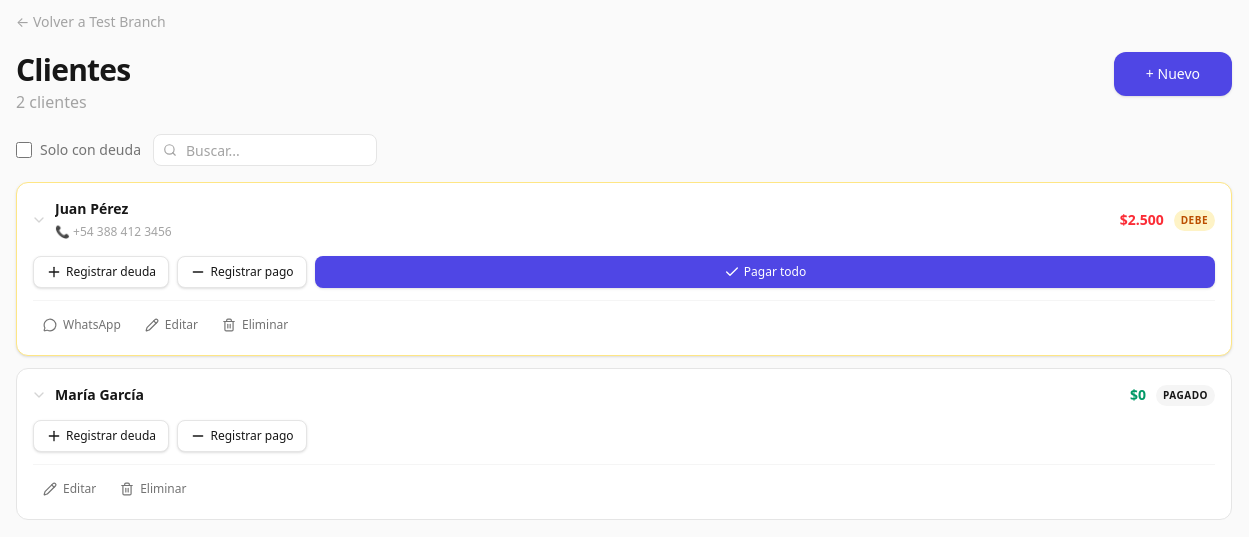
ClientList › should show no results message when search has no matches
Expected: the text "Juan Pérez" is shown, x1=55 y1=199 x2=128 y2=218
Type "NonExistent" into the field with placeholder "Buscar..." at (265, 150), box x1=153 y1=134 x2=377 y2=166
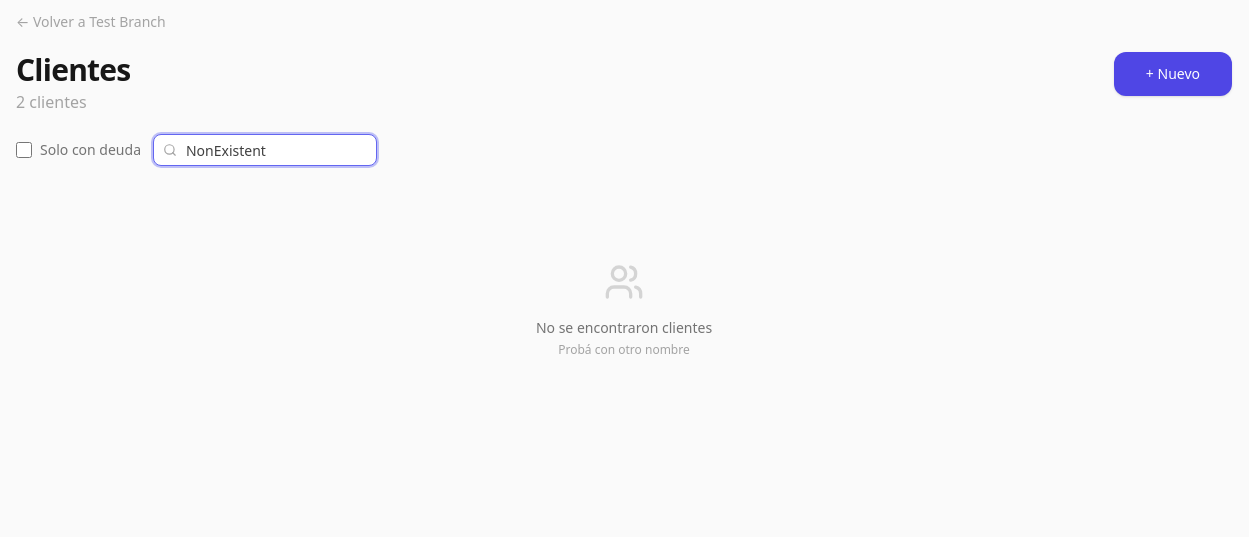
Now the text "No se encontraron clientes" is shown, box x1=536 y1=318 x2=712 y2=338
Now the text "Probá con otro nombre" is shown, box x1=558 y1=342 x2=690 y2=358
